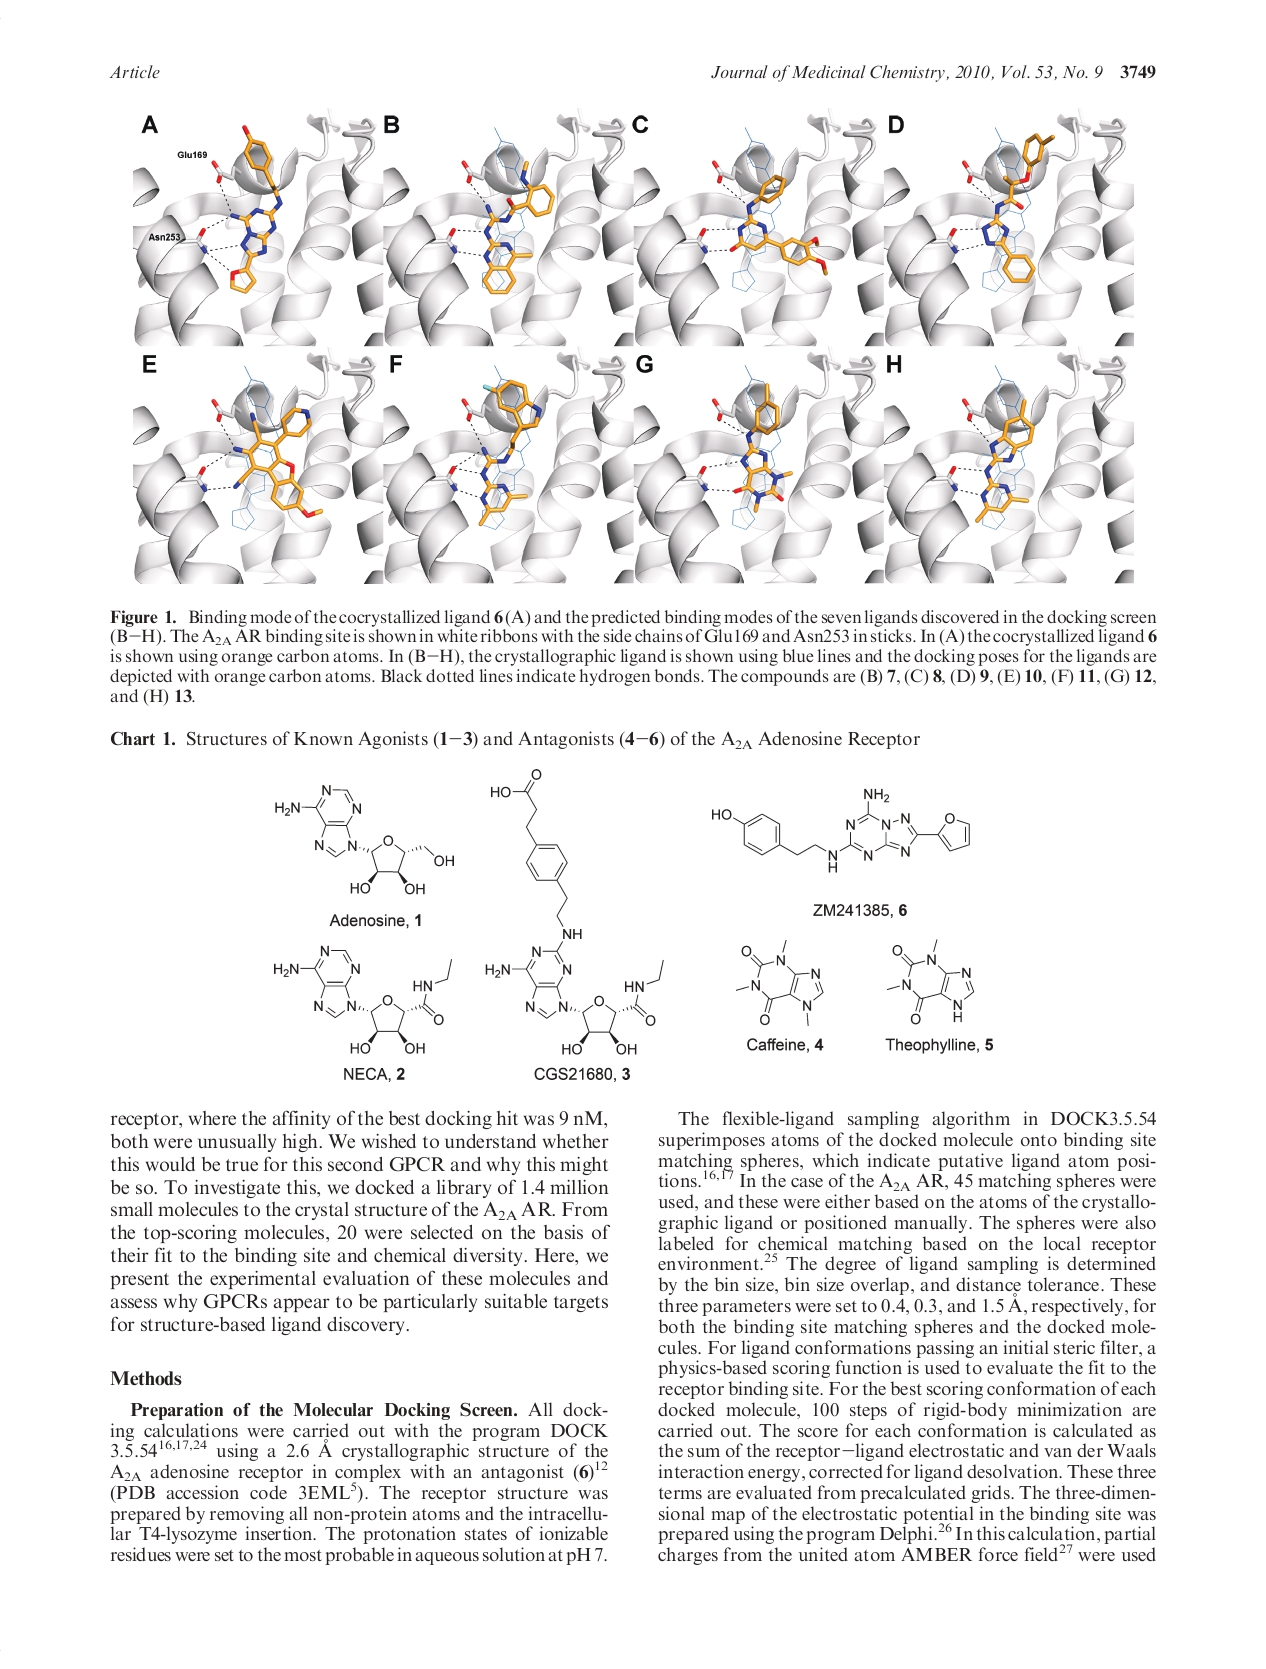exist_molecular: (485, 765, 668, 1060), (265, 779, 457, 902), (706, 789, 972, 872), (880, 932, 977, 1028), (734, 935, 828, 1032)
